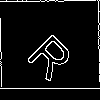R: (25, 25, 82, 83)
